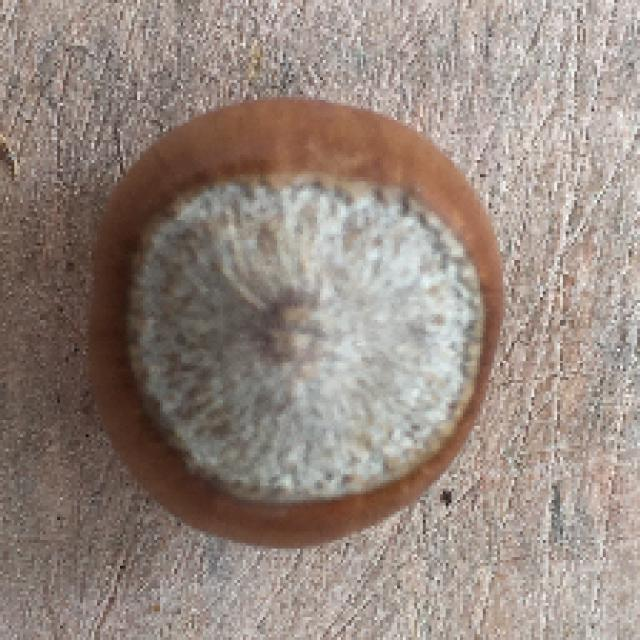qualityHazelnut: (77, 93, 511, 574)
